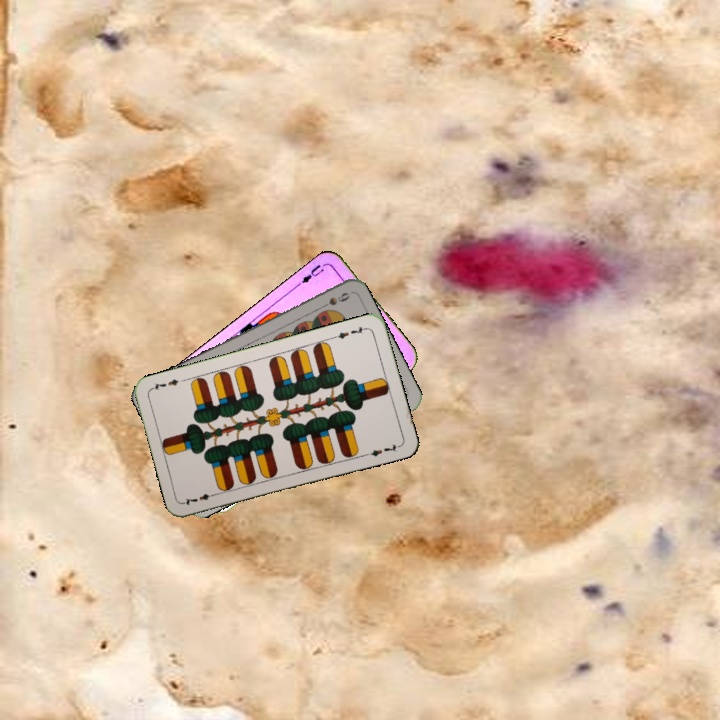E7: (330, 322, 370, 341), (180, 489, 220, 507)
EU: (293, 260, 327, 288)
S9: (314, 288, 352, 312)
